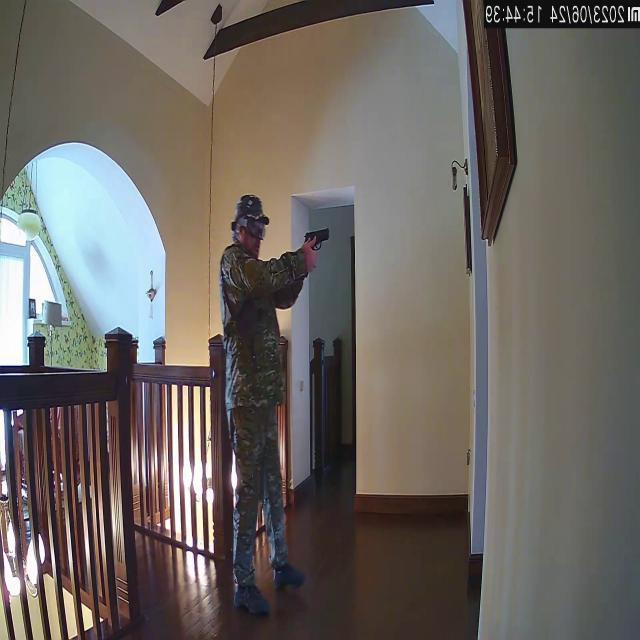pistol: (304, 224, 332, 258)
